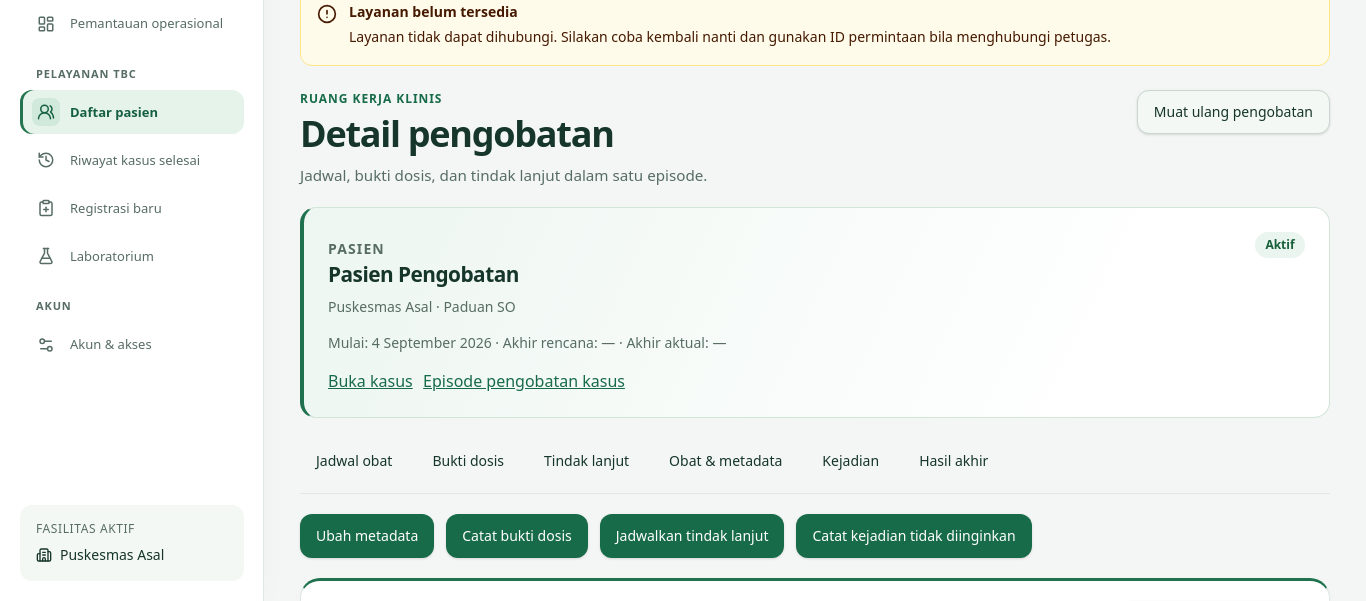
Test: snapshot is displayed, metadata patch uses actual ETag and dirty-only null clear
Click the button "Ubah metadata" at [367, 536], box left=300, top=514, right=434, bottom=558
(page scrolled)
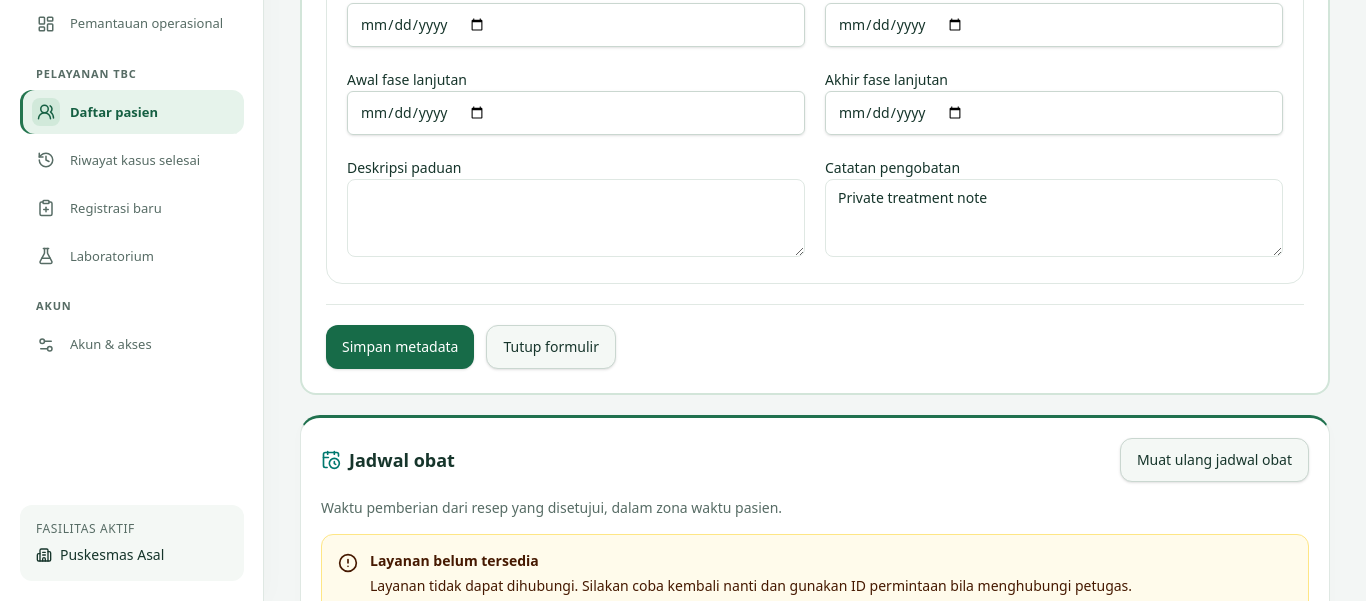
Clear the text box labelled "Catatan pengobatan" at [1054, 218], box left=825, top=179, right=1283, bottom=257
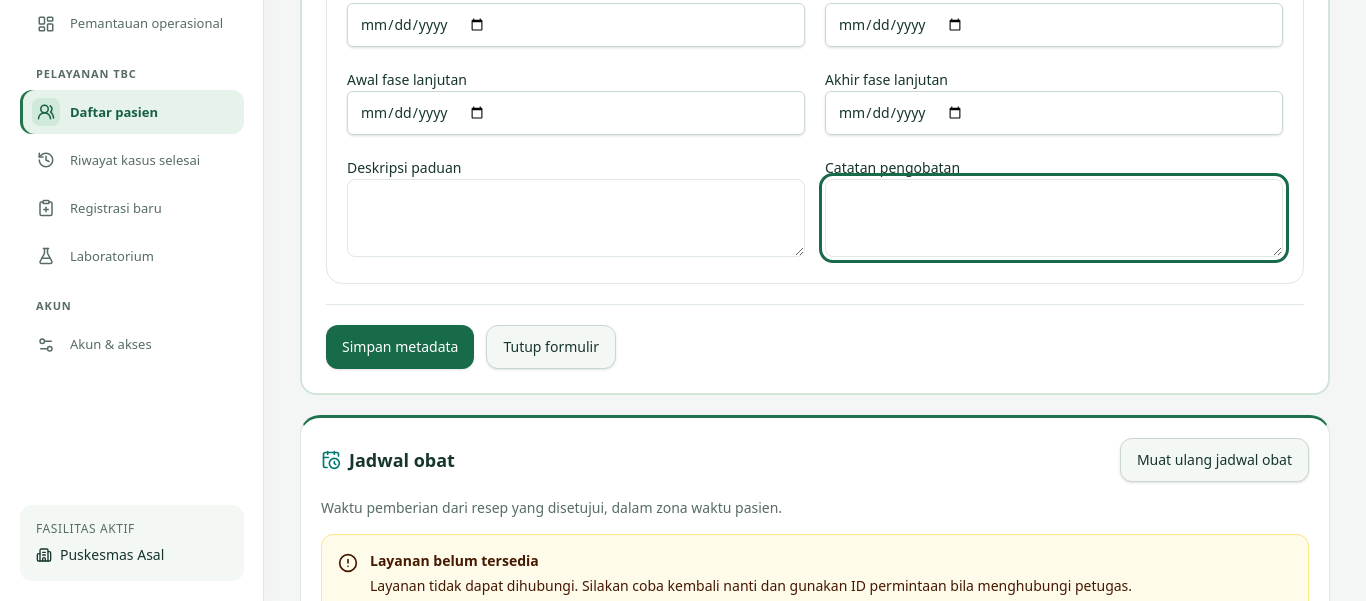
Click the button "Simpan metadata" at [400, 347], box left=326, top=325, right=474, bottom=369
(page scrolled)
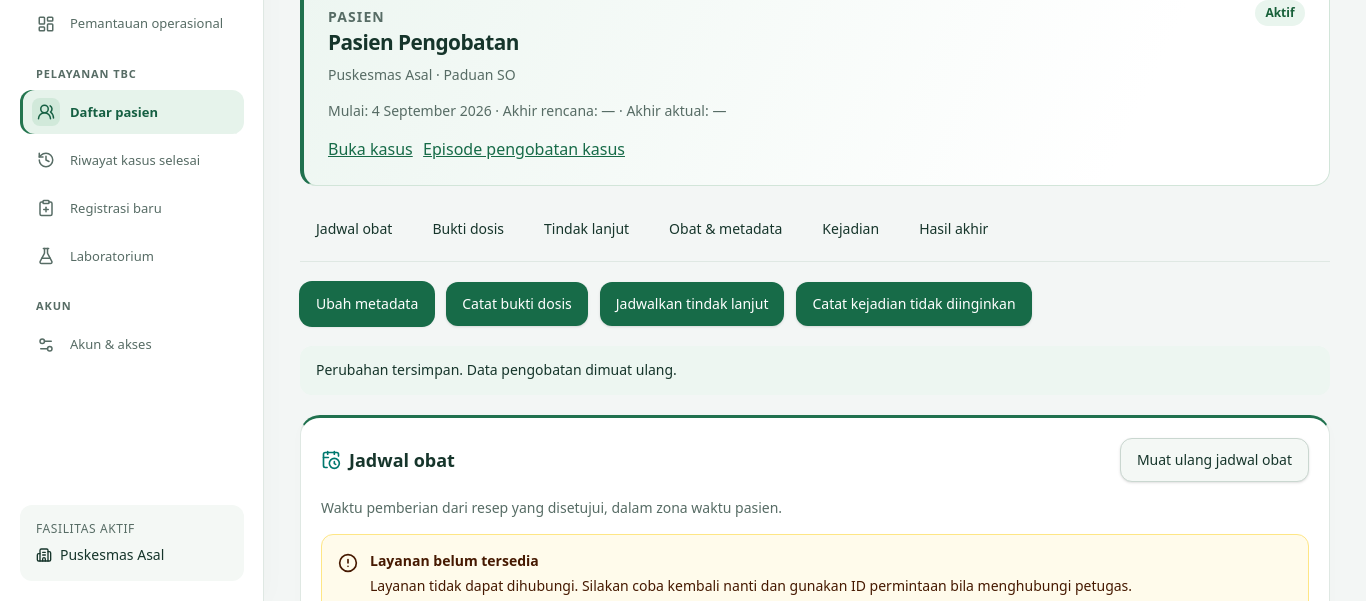
Check: the text "Perubahan tersimpan. Data pengobatan dimuat ulang." is shown, box left=300, top=346, right=1330, bottom=395
